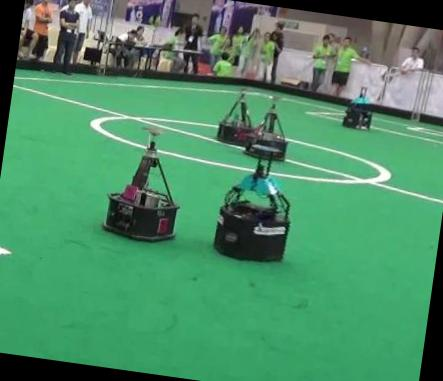person: (53, 0, 79, 73)
robot: (213, 158, 290, 259), (102, 140, 177, 239), (244, 96, 287, 159), (216, 87, 253, 145), (342, 86, 371, 129)
